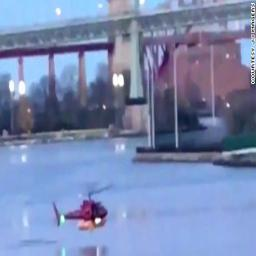helicopter: (53, 179, 119, 240)
